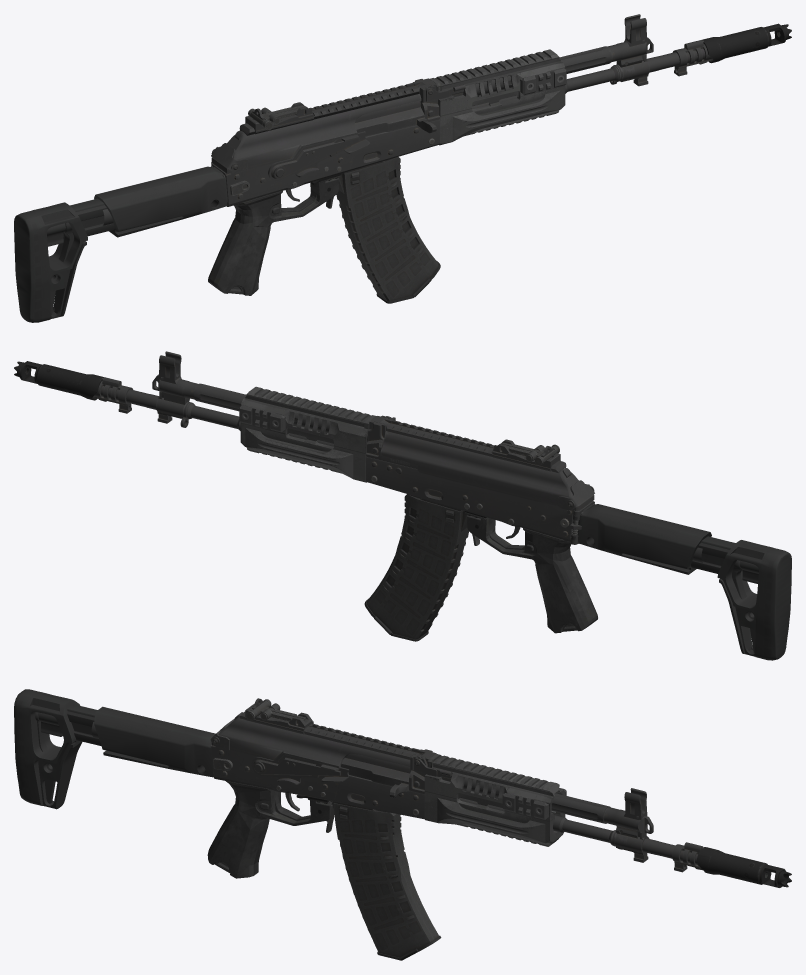
3 renders of one model, top to bottom at view 1: azimuth 30°, elevation 25°; view 2: azimuth 150°, elevation 25°; view 3: azimuth 330°, elevation 25°, orthographic.
Parts seen in each view (by area): view 1: fx_tir; view 2: fx_tir; view 3: fx_tir.
Part boxes in pixels (<box>): fx_tir: <box>14,14,791,322</box>; fx_tir: <box>14,351,791,660</box>; fx_tir: <box>14,689,791,960</box>.
Bounding box in the file's own units: 1.03 × 0.0748 × 0.2834.
6 materials, 6 textured.
